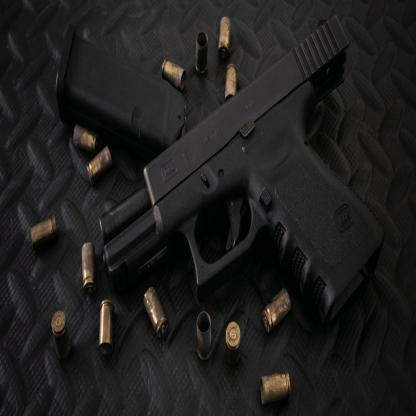Pistol: (88, 14, 369, 413)
